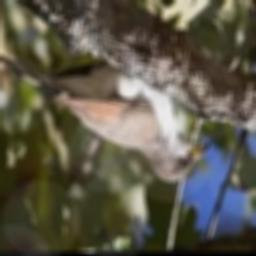Cuckoo: (0, 52, 211, 183)
